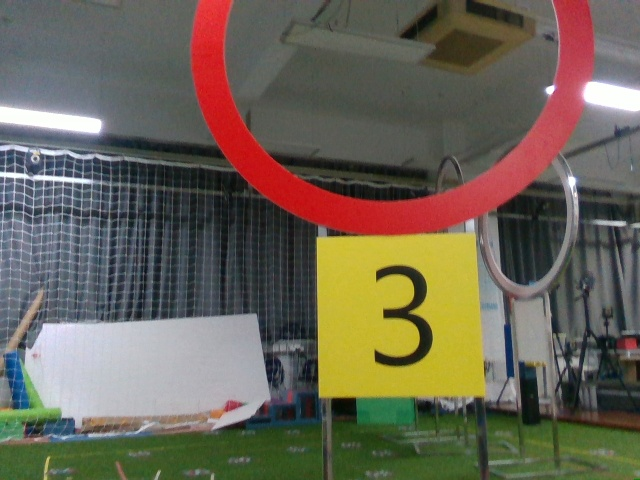target: (317, 233, 482, 393)
